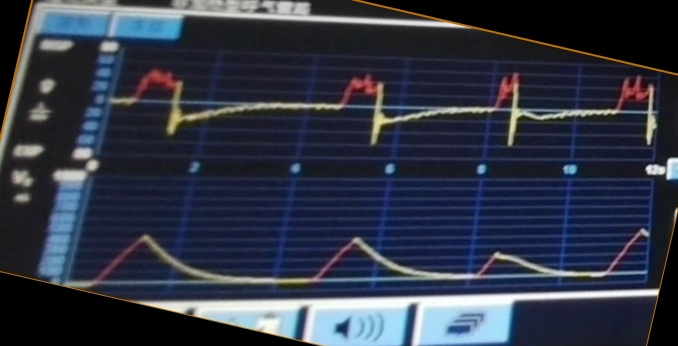Accumulation Flow: (119, 63, 655, 152)
Volume: (91, 206, 647, 288)
